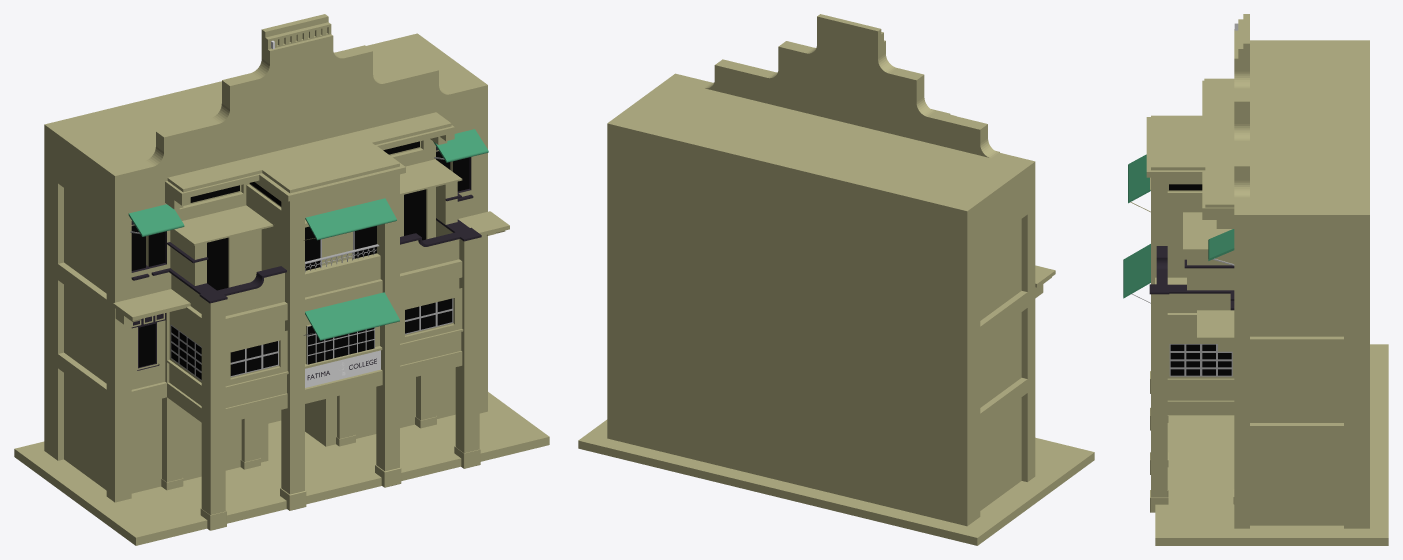
Rendered from fatima.glb.
The picture shows the model from 3 angles, left to right: view 1: azimuth 30°, elevation 25°; view 2: azimuth 150°, elevation 25°; view 3: azimuth 270°, elevation 25°; orthographic projection. The views are drawn at different scales.
Visible parts, largest first — view 1: Cube; view 2: Cube; view 3: Cube.
Part boxes in pixels (<box>): Cube: <box>14,14,549,545</box>; Cube: <box>578,14,1094,545</box>; Cube: <box>1123,14,1388,545</box>.
Bounding box in the file's own units: 12.42 × 12.57 × 7.19.
